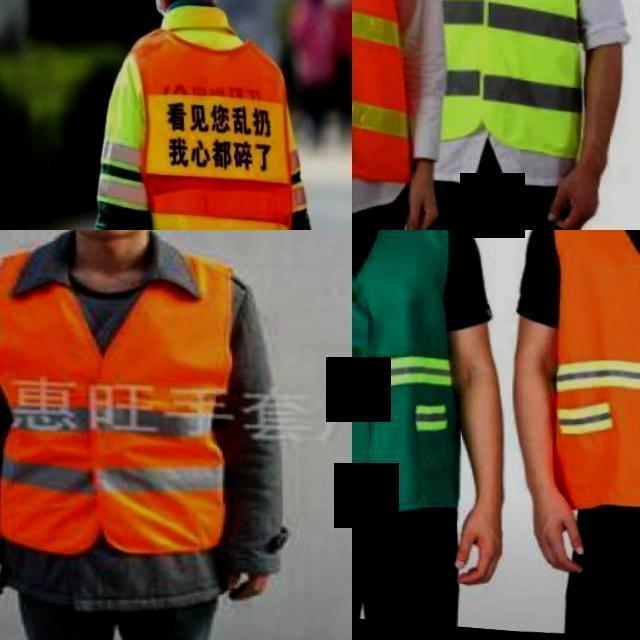vest: (0, 243, 245, 570), (352, 230, 461, 527), (137, 31, 299, 230), (421, 0, 608, 159), (548, 230, 640, 520), (352, 0, 454, 202)
